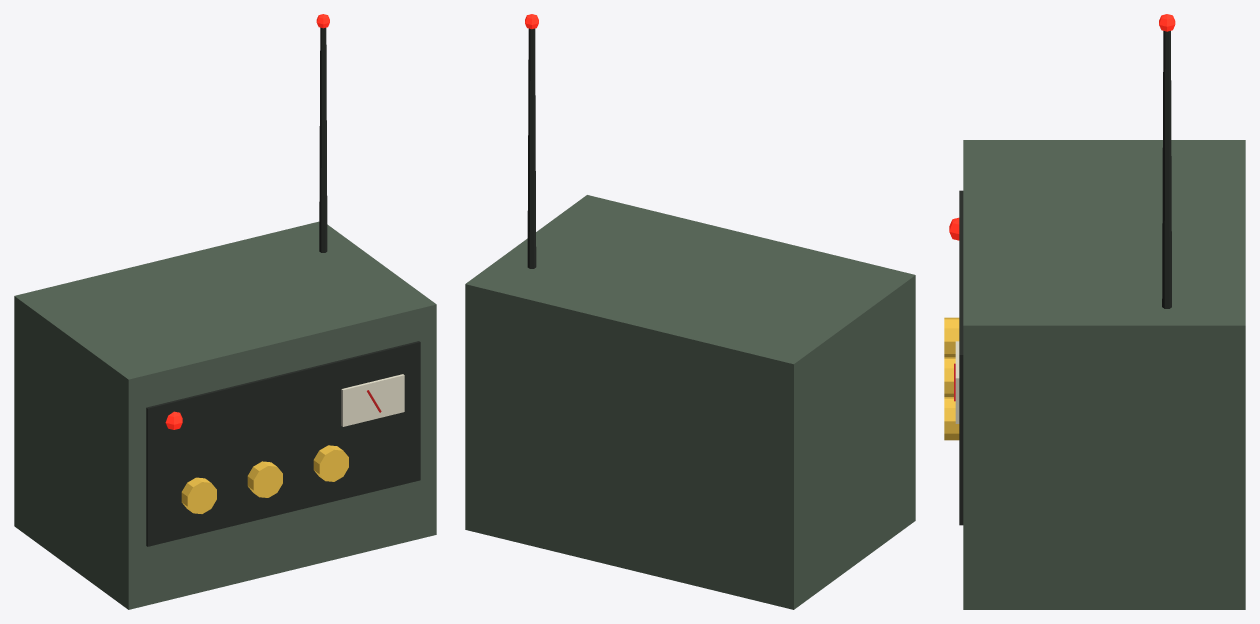
File: radio_transmitter.glb
3 renders of one model, left to right at view 1: azimuth 30°, elevation 25°; view 2: azimuth 150°, elevation 25°; view 3: azimuth 270°, elevation 25°, orthographic. The views are drawn at different scales.
Visible parts, largest first — view 1: cabinet_transmitter, cabinet_transmitter_dark, dials_brass, gauge_gauge, antenna_transmitter_dark; view 2: cabinet_transmitter, antenna_transmitter_dark; view 3: cabinet_transmitter, antenna_transmitter_dark, cabinet_transmitter_dark, dials_brass, gauge_gauge.
Part boxes in pixels (bbox=[...]): cabinet_transmitter: bbox=[14, 221, 436, 609]; cabinet_transmitter_dark: bbox=[146, 341, 420, 546]; dials_brass: bbox=[181, 445, 348, 513]; gauge_gauge: bbox=[341, 374, 404, 426]; antenna_transmitter_dark: bbox=[319, 27, 327, 252]; cabinet_transmitter: bbox=[465, 195, 915, 609]; antenna_transmitter_dark: bbox=[527, 28, 536, 268]; cabinet_transmitter: bbox=[963, 140, 1245, 609]; antenna_transmitter_dark: bbox=[1162, 31, 1171, 308]; cabinet_transmitter_dark: bbox=[959, 190, 963, 525]; dials_brass: bbox=[944, 317, 959, 440]; gauge_gauge: bbox=[955, 341, 959, 423].
Size of the model in its own units: 0.7 by 1.01 by 0.48.
